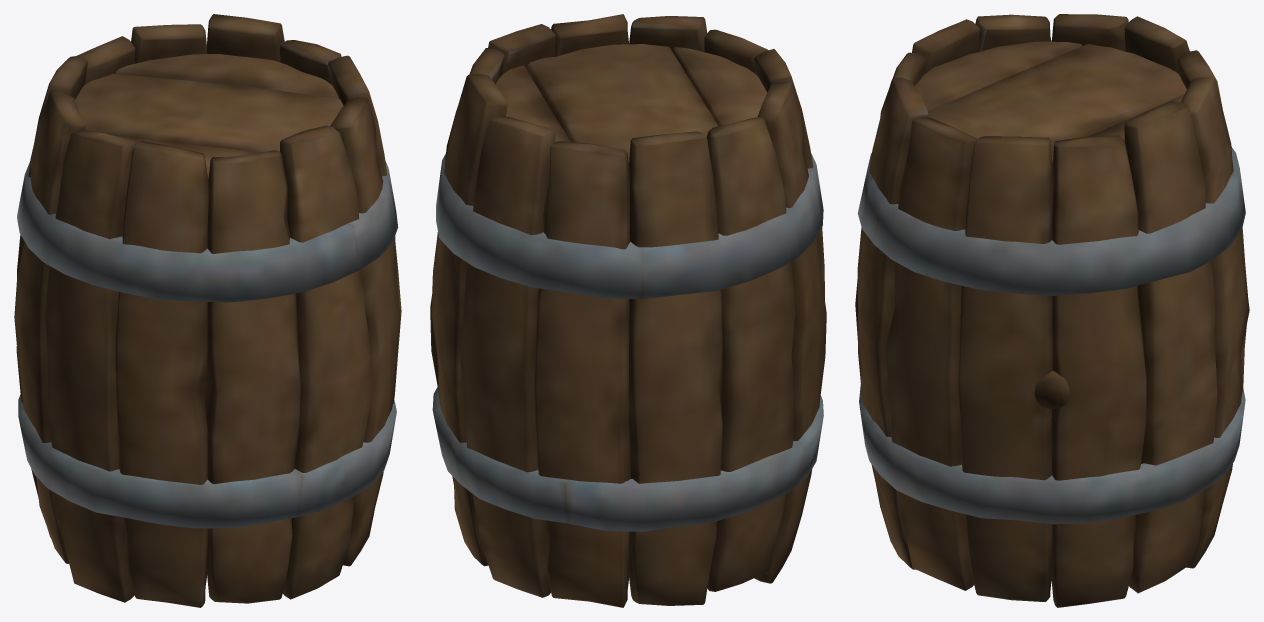
Rendered from wooden_barrel.glb.
3 renders of one model, left to right at view 1: azimuth 30°, elevation 25°; view 2: azimuth 150°, elevation 25°; view 3: azimuth 270°, elevation 25°, orthographic. The views are drawn at different scales.
Visible parts, largest first — view 1: M_01.002, base.076, base.075, base.077, base.074, B_01.025, base.078, base.073, B_01.038, base.084, base.083, base.086 (+4 smaller); view 2: M_01.002, base.079, base.080, base.083, base.078, B_01.025, base.077, base.084, B_01.039, B_01.038, base.074, base.073 (+4 smaller); view 3: M_01.002, base.086, base.085, base.084, base.073, B_01.025, base.074, base.083, B_01.039, base.078, base.079, base.077 (+4 smaller).
Boxes of the visible parts, box(x1,y1,x2,y2) form: M_01.002: box(17, 161, 398, 528); base.076: box(115, 141, 208, 607); base.075: box(205, 150, 300, 603); base.077: box(45, 130, 134, 602); base.074: box(280, 125, 371, 599); B_01.025: box(75, 73, 343, 152); base.078: box(14, 89, 85, 563); base.073: box(330, 97, 400, 566); B_01.038: box(115, 54, 338, 98); base.084: box(207, 14, 284, 62); base.083: box(131, 24, 208, 180); base.086: box(328, 55, 401, 403); M_01.002: box(432, 153, 823, 531); base.079: box(629, 131, 722, 605); base.080: box(534, 141, 630, 607); base.083: box(460, 116, 555, 597); base.078: box(707, 117, 795, 591); B_01.025: box(526, 44, 718, 163); base.077: box(754, 81, 826, 583); base.084: box(431, 73, 507, 566); B_01.039: box(672, 47, 767, 126); B_01.038: box(495, 65, 570, 141); base.074: box(629, 16, 707, 51); base.073: box(551, 14, 628, 133); M_01.002: box(857, 147, 1245, 524); base.086: box(958, 136, 1053, 601); base.085: box(1051, 135, 1146, 607); base.084: box(1124, 101, 1217, 593); base.073: box(884, 117, 977, 590); B_01.025: box(927, 44, 1186, 150); base.074: box(857, 77, 928, 569); base.083: box(1181, 77, 1249, 568); B_01.039: box(915, 41, 1082, 110); base.078: box(1051, 14, 1128, 51); base.079: box(1124, 16, 1189, 73); base.077: box(975, 14, 1051, 51).
Size of the model in its own units: 0.7211 by 0.9478 by 0.7082.
Materials: 1 (1 with a texture image).
